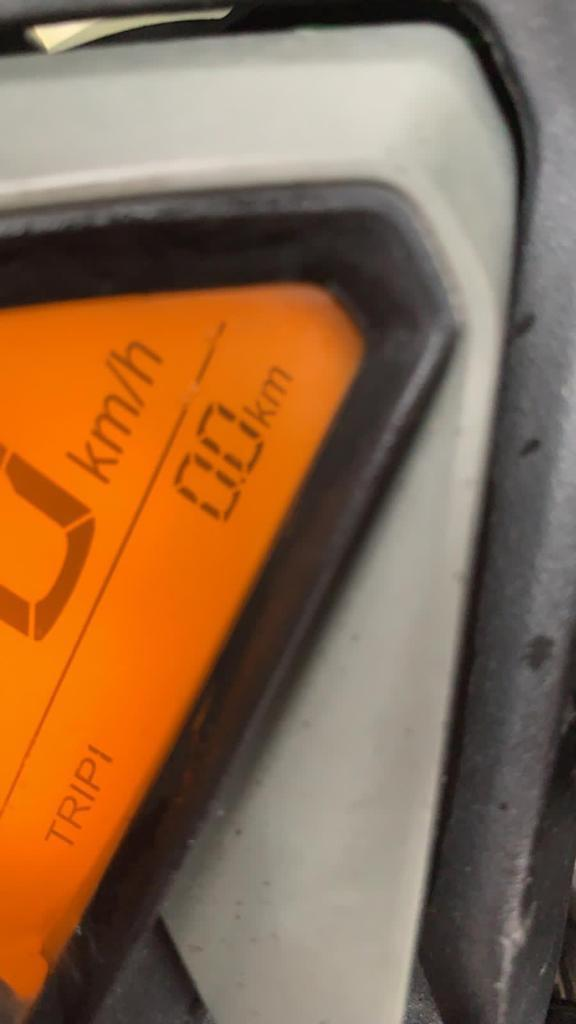,: (237, 473, 250, 487)
0: (192, 399, 265, 477), (169, 449, 240, 525)
1: (80, 739, 121, 763)
X: (106, 333, 166, 385), (89, 397, 137, 454), (57, 442, 117, 485), (95, 358, 144, 409), (261, 360, 299, 405), (54, 795, 90, 828), (72, 755, 101, 794), (245, 393, 276, 426), (41, 818, 73, 847), (68, 780, 94, 803)
odometer: (0, 245, 388, 1012)
